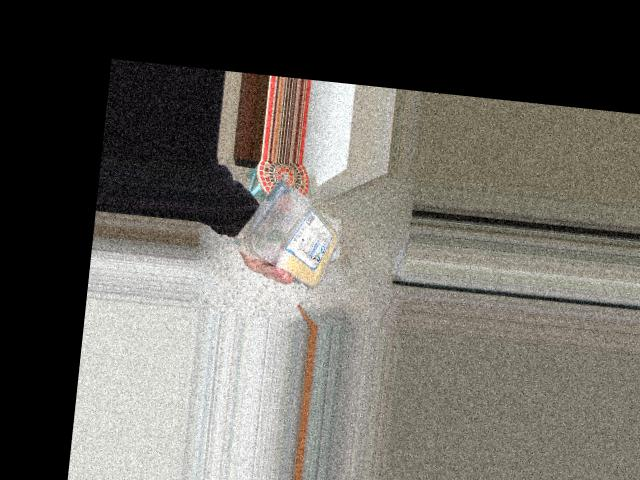cheese: (238, 174, 354, 277)
